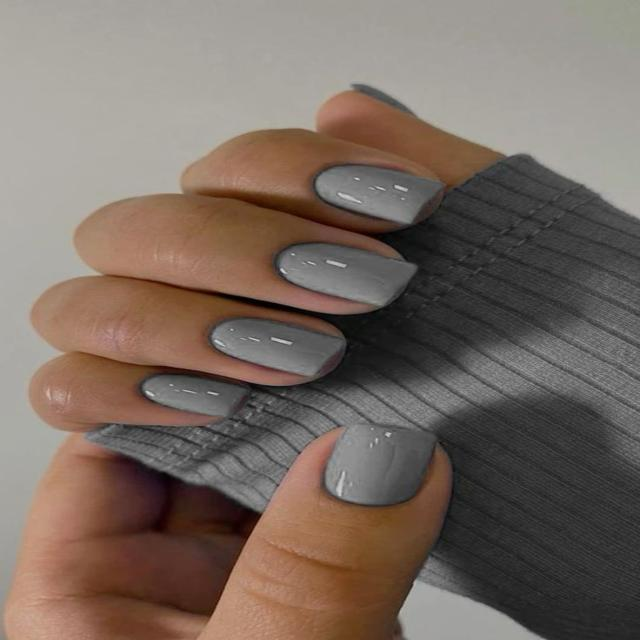Fingernail: (324, 424, 436, 507), (276, 242, 417, 307), (314, 165, 446, 225), (210, 318, 343, 376), (142, 374, 250, 417)
